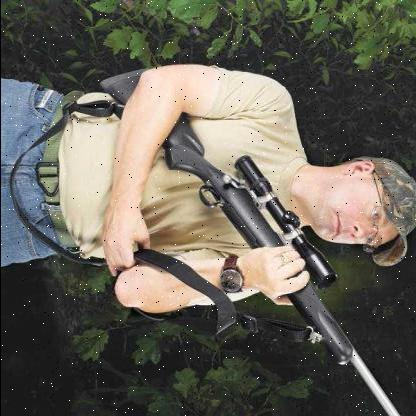rifle: (94, 65, 416, 415)
